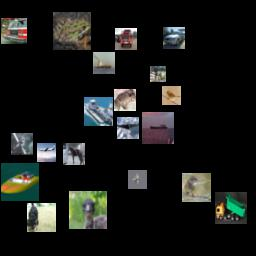airplane: (117, 117, 139, 139), (128, 170, 147, 189), (37, 143, 56, 162)
automobile: (163, 27, 185, 49)
bird: (69, 191, 107, 229), (182, 173, 211, 202), (11, 133, 33, 155), (162, 86, 181, 105)
dog: (27, 203, 56, 232)
frog: (53, 12, 91, 50), (114, 89, 136, 111)
ship: (1, 163, 39, 201), (142, 112, 174, 144), (84, 97, 113, 126), (93, 52, 115, 74)
truck: (215, 192, 247, 224), (1, 18, 27, 44), (115, 28, 137, 50)
